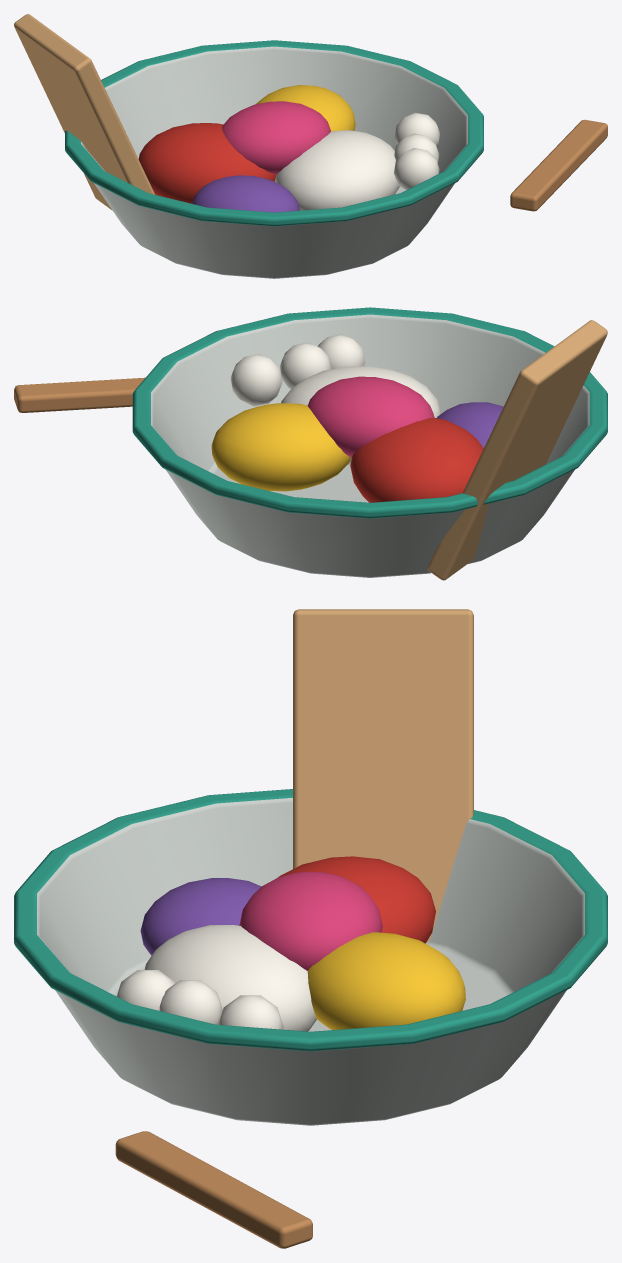
Rendered from prop_batya.glb.
3 views of the same model, one above another, from view 1: azimuth 30°, elevation 25°; view 2: azimuth 150°, elevation 25°; view 3: azimuth 270°, elevation 25° (orthographic). The views are drawn at different scales.
Parts seen in each view (by area): view 1: prop_batya; view 2: prop_batya; view 3: prop_batya.
Part boxes in pixels (<box>): prop_batya: <box>14,14,607,278</box>; prop_batya: <box>14,307,607,580</box>; prop_batya: <box>14,609,607,1248</box>.
Bounding box in the file's own units: 1.43 × 0.5362 × 0.9848.
